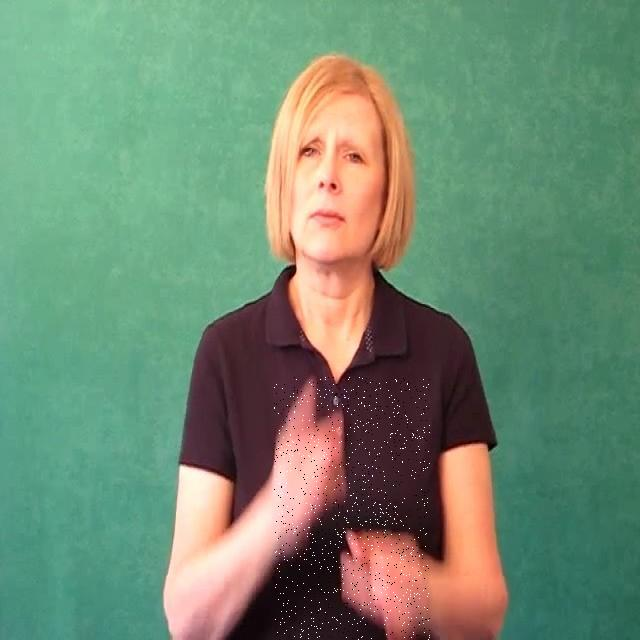alcohol: (274, 377, 430, 640)
